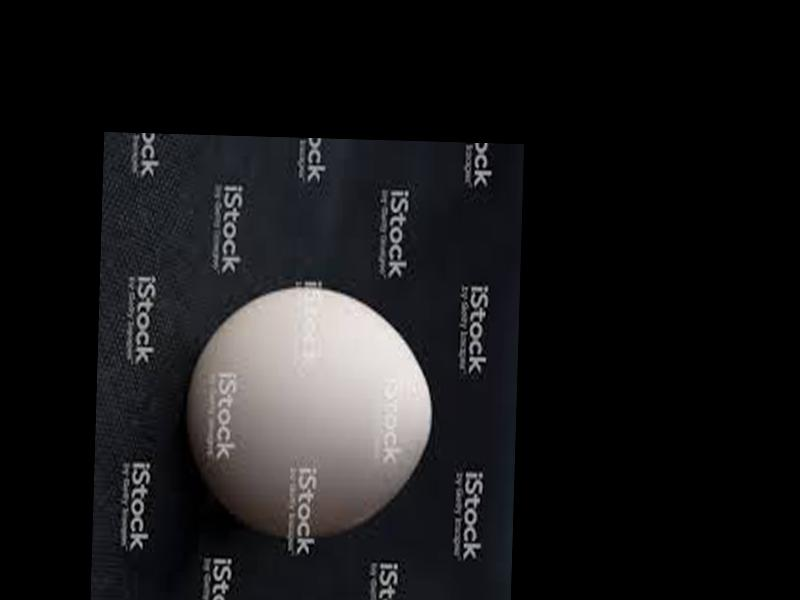Eggs: (181, 284, 435, 542)
